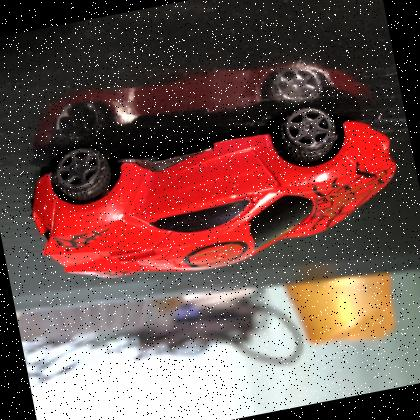Car: (14, 84, 416, 312)
